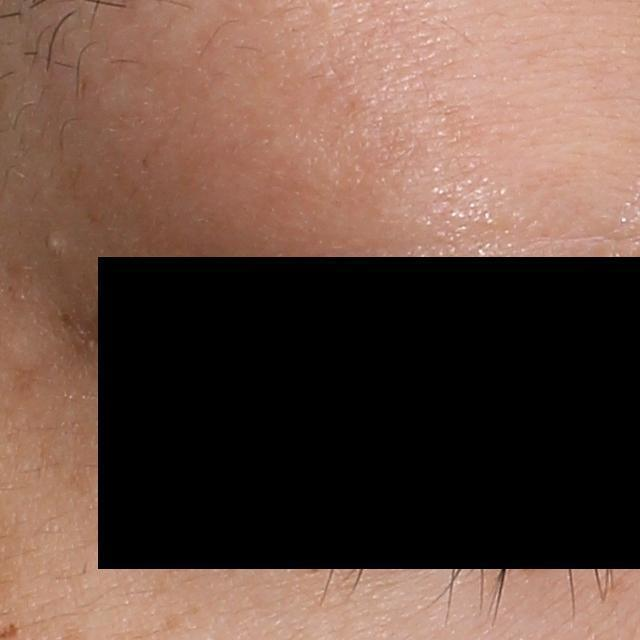other: (44, 231, 70, 256)
